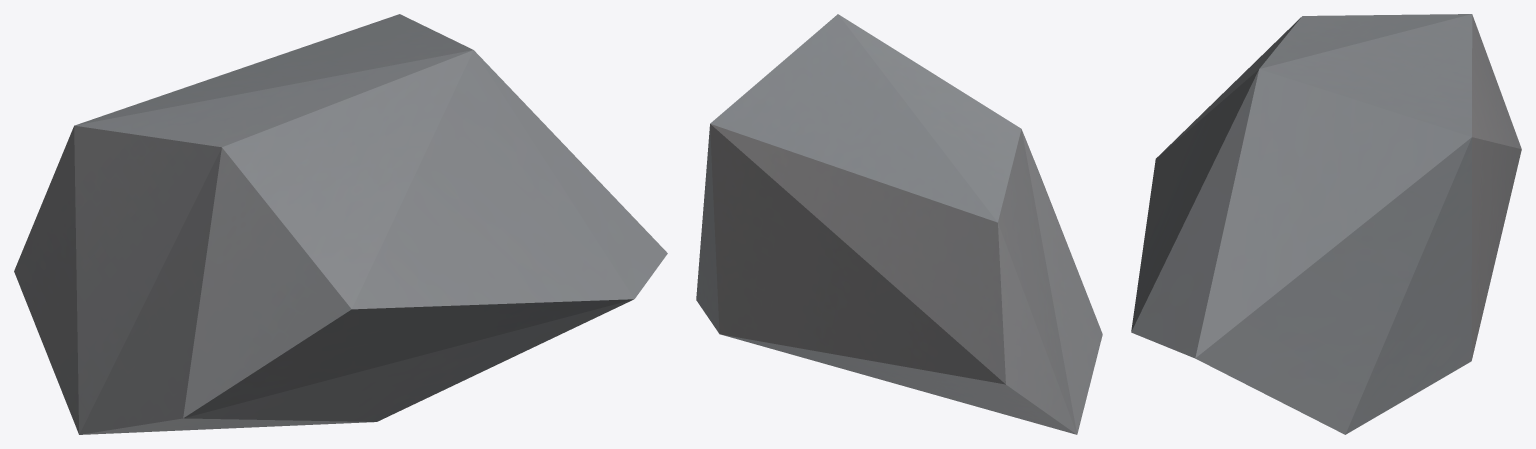
The model's file is Rock_Sm_1.fbx.
3 renders of one model, left to right at view 1: azimuth 30°, elevation 25°; view 2: azimuth 150°, elevation 25°; view 3: azimuth 270°, elevation 25°, orthographic. The views are drawn at different scales.
Parts seen in each view (by area): view 1: Group51441; view 2: Group51441; view 3: Group51441.
Part boxes in pixels (box(x1,y1,x2,y2)): Group51441: box(14, 14, 667, 434); Group51441: box(696, 14, 1102, 434); Group51441: box(1131, 14, 1521, 434).
Bounding box in the file's own units: 114 × 80.82 × 80.16.
